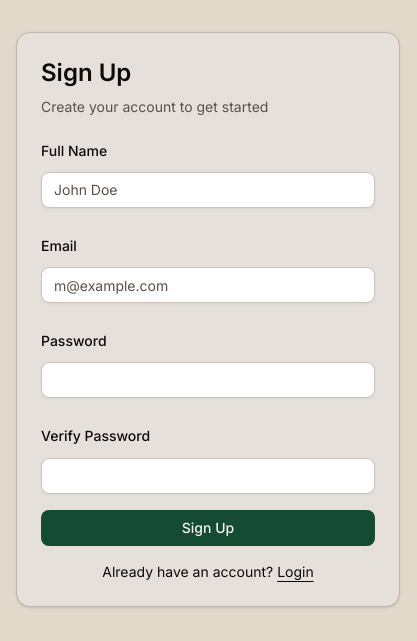
it: auth forms › validates registration password confirmation before submitting
Type "Jane Traveller" into the field labelled "Full Name" at (208, 190), box [41, 172, 375, 208]
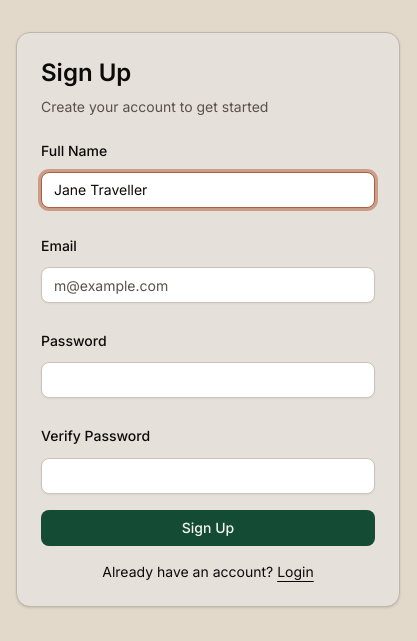
Type "jane@example.com" into the field labelled "Email" at (208, 285), box [41, 267, 375, 303]
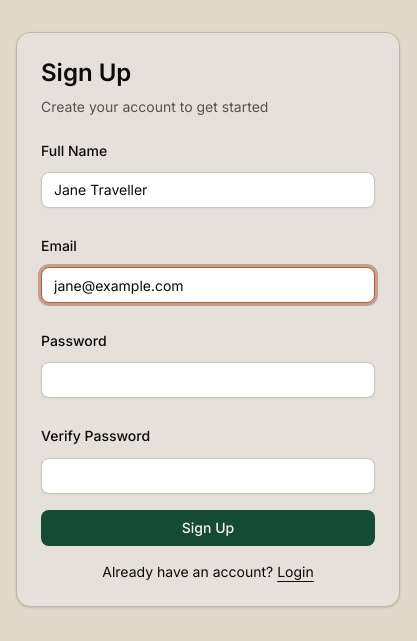
Type "secret-password" into the password field labelled "Password" at (208, 380), box [41, 362, 375, 398]
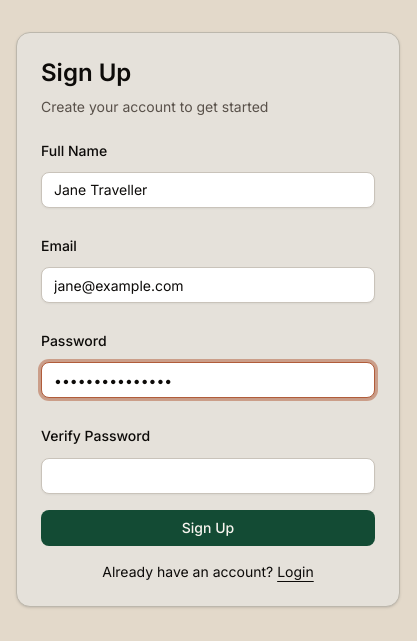
Type "different-password" into the password field labelled "Verify Password" at (208, 476), box [41, 458, 375, 494]
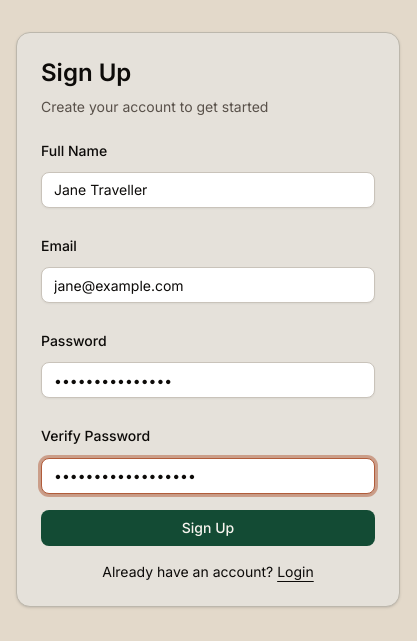
Click the button "Sign Up" at (208, 528), box [41, 510, 375, 546]
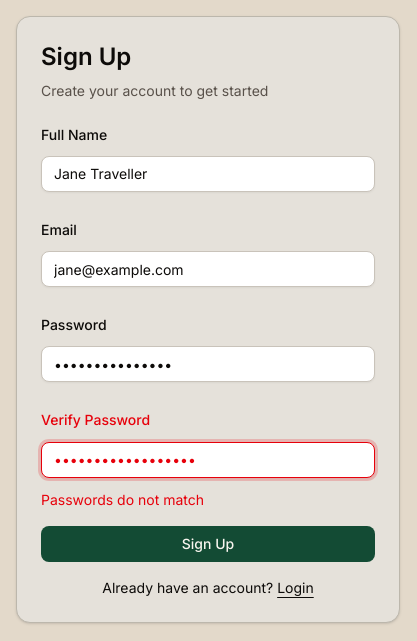
Expected: the text "Passwords do not match" is shown, [41, 490, 204, 508]
